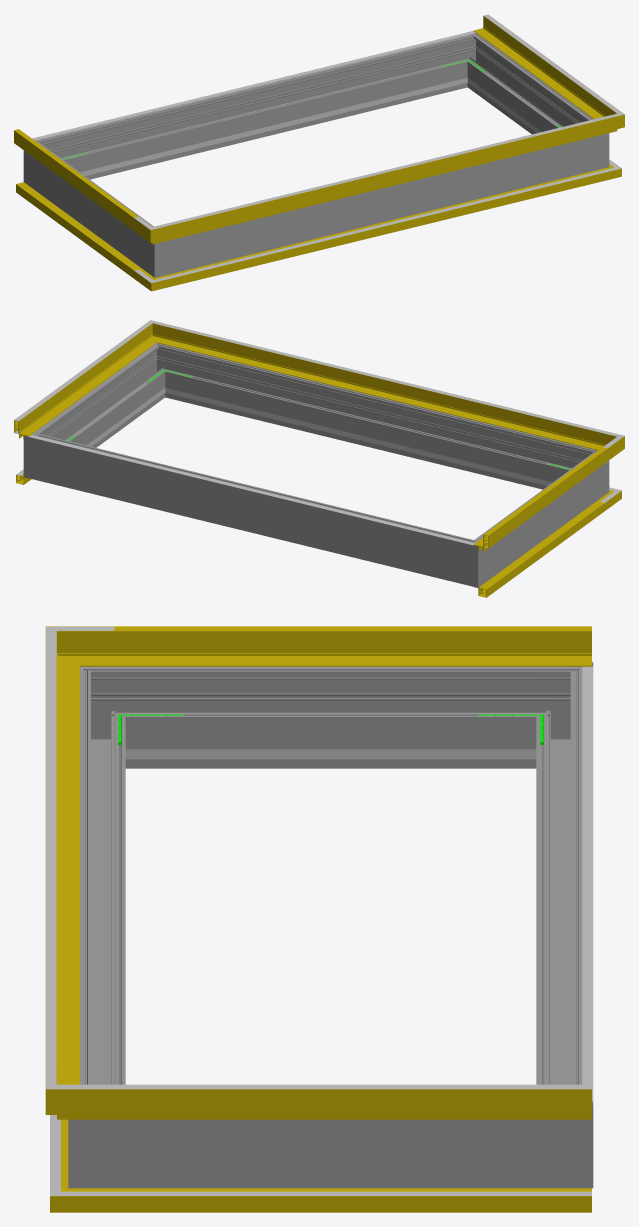
The picture shows the model from 3 angles, top to bottom: view 1: azimuth 30°, elevation 25°; view 2: azimuth 150°, elevation 25°; view 3: azimuth 270°, elevation 25°; orthographic projection. The views are drawn at different scales.
Visible parts, largest first — view 1: 3DGeom-276, 3DGeom-298, 3DGeom-56, 3DGeom-297, 3DGeom-11, 3DGeom-268, 3DGeom-58, 3DGeom-244, 3DGeom-50, 3DGeom-270, 3DGeom-6, 3DGeom-220 (+11 smaller); view 2: 3DGeom-298, 3DGeom-276, 3DGeom-56, 3DGeom-297, 3DGeom-268, 3DGeom-58, 3DGeom-278, 3DGeom-239, 3DGeom-50, 3DGeom-6, 3DGeom-220, 3DGeom-284 (+8 smaller); view 3: 3DGeom-268, 3DGeom-297, 3DGeom-50, 3DGeom-276, 3DGeom-298, 3DGeom-58, 3DGeom-56, 3DGeom-16, 3DGeom-220, 3DGeom-284, 3DGeom-290, 3DGeom-66 (+9 smaller).
Part boxes in pixels (<box>): 3DGeom-276: <box>56,39,462,179</box>; 3DGeom-298: <box>184,140,579,270</box>; 3DGeom-56: <box>177,122,595,238</box>; 3DGeom-297: <box>470,43,586,134</box>; 3DGeom-11: <box>177,172,592,284</box>; 3DGeom-268: <box>40,150,146,264</box>; 3DGeom-58: <box>473,16,602,117</box>; 3DGeom-244: <box>91,85,438,174</box>; 3DGeom-50: <box>14,130,133,230</box>; 3DGeom-270: <box>137,221,184,277</box>; 3DGeom-6: <box>16,182,141,278</box>; 3DGeom-220: <box>32,31,475,140</box>; 3DGeom-298: <box>170,349,576,489</box>; 3DGeom-276: <box>53,439,453,580</box>; 3DGeom-56: <box>171,329,592,447</box>; 3DGeom-297: <box>45,353,162,447</box>; 3DGeom-268: <box>486,460,592,574</box>; 3DGeom-58: <box>14,334,147,438</box>; 3DGeom-278: <box>448,531,495,587</box>; 3DGeom-239: <box>194,395,541,484</box>; 3DGeom-50: <box>473,448,607,551</box>; 3DGeom-6: <box>474,501,604,597</box>; 3DGeom-220: <box>28,435,474,545</box>; 3DGeom-284: <box>23,424,58,483</box>; 3DGeom-268: <box>137,666,524,768</box>; 3DGeom-297: <box>137,1119,524,1188</box>; 3DGeom-50: <box>114,626,591,666</box>; 3DGeom-276: <box>536,691,582,1084</box>; 3DGeom-298: <box>80,691,125,1084</box>; 3DGeom-58: <box>114,1089,591,1119</box>; 3DGeom-56: <box>45,655,79,1084</box>; 3DGeom-16: <box>118,1188,591,1212</box>; 3DGeom-220: <box>582,666,593,1101</box>; 3DGeom-284: <box>525,1076,593,1188</box>; 3DGeom-290: <box>68,1076,136,1188</box>; 3DGeom-66: <box>46,655,56,1060</box>.
Size of the model in its own units: 2.44 by 0.307 by 1.22.
